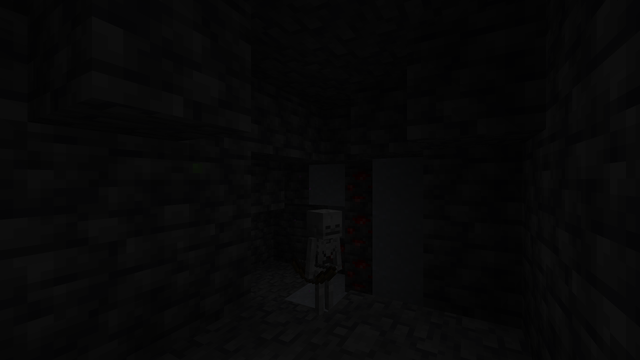squelettes: (303, 209, 343, 317)
